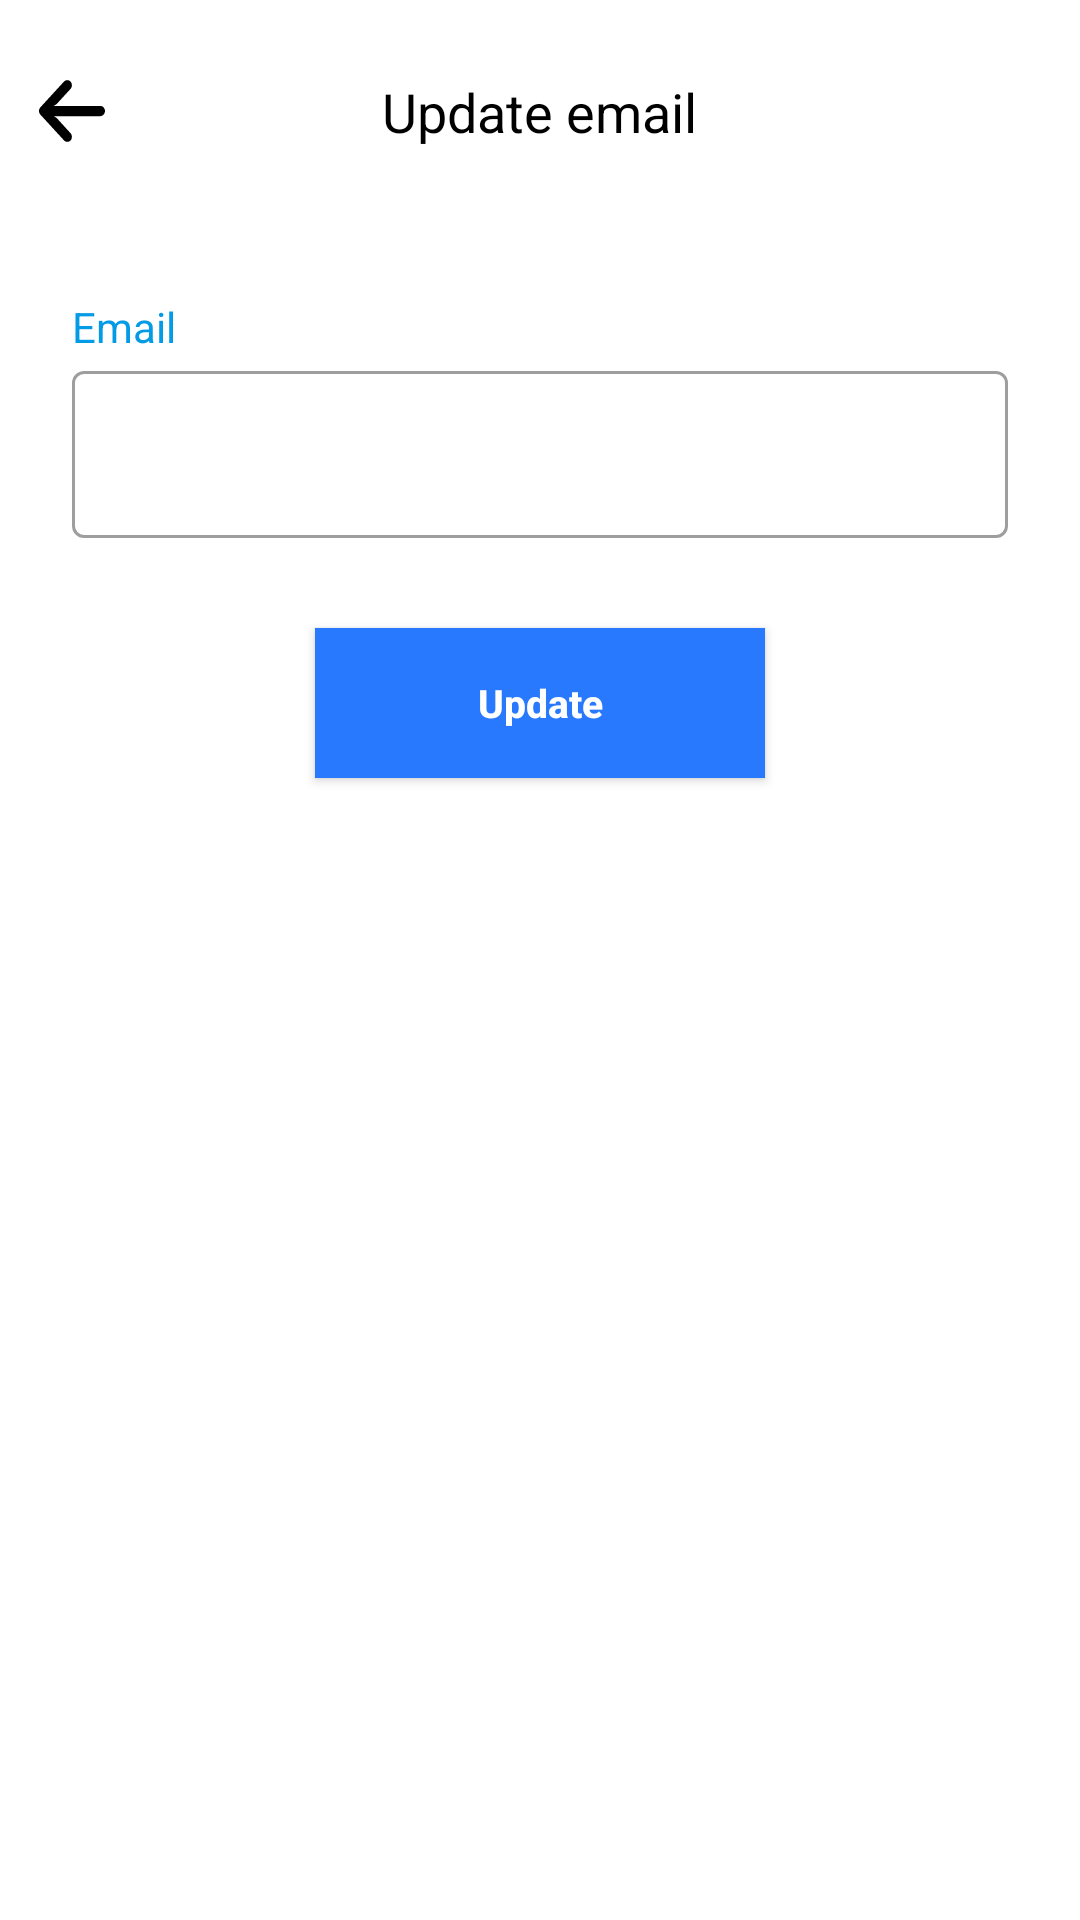

Screen size 1080x1920. Icon name, then its center in pixels as (x,y):
back arrow: (72,111)
